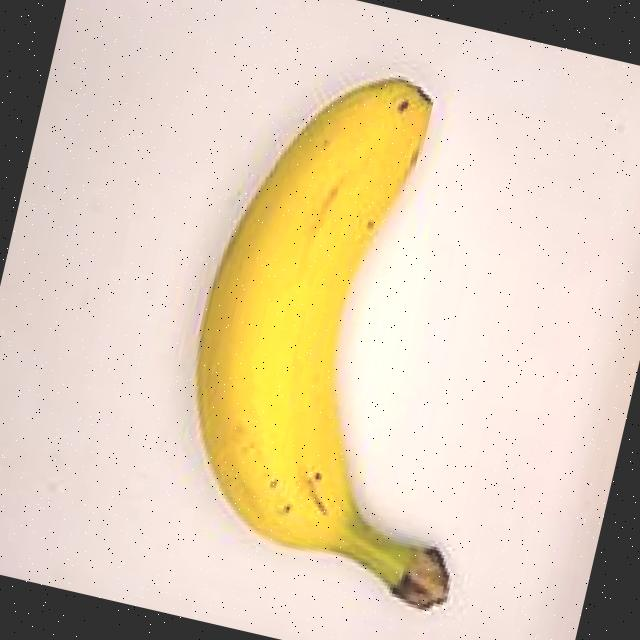Ripe: (105, 26, 568, 640)
